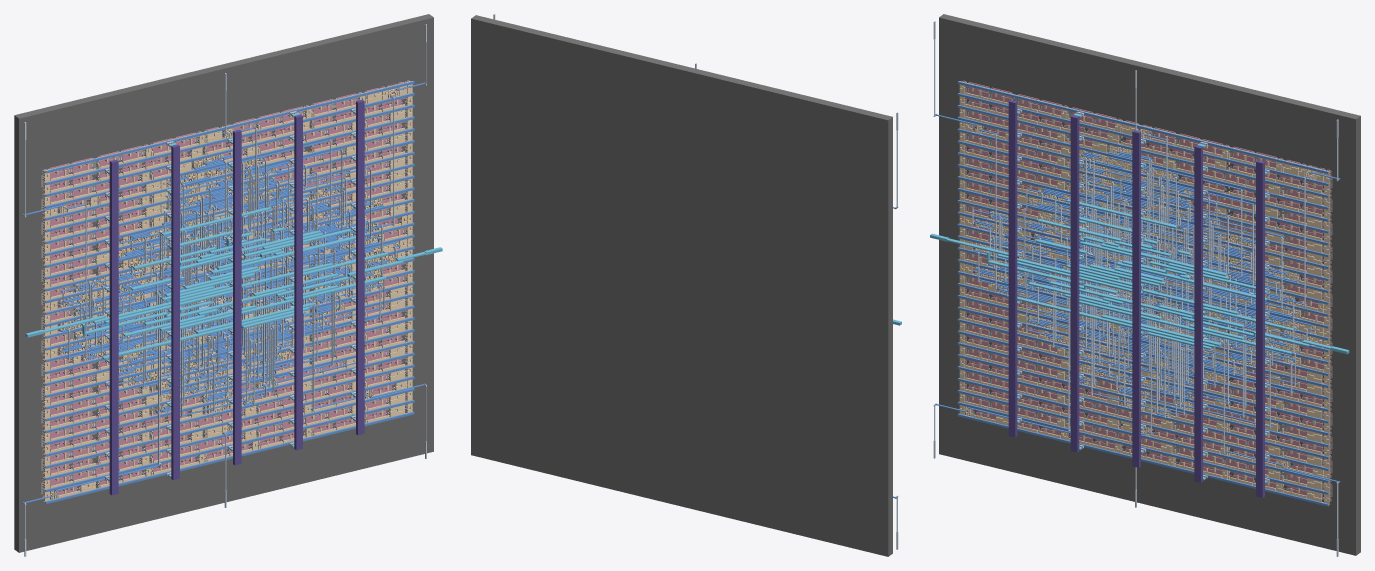
File: tinytapeout.gds.gltf
3 renders of one model, left to right at view 1: azimuth 30°, elevation 25°; view 2: azimuth 150°, elevation 25°; view 3: azimuth 330°, elevation 25°, orthographic.
Parts seen in each view (by area): view 1: scan_wrapper_341188777753969234_substrate, scan_wrapper_341188777753969234_met1, scan_wrapper_341188777753969234_met2, scan_wrapper_341188777753969234_met4, scan_wrapper_341188777753969234_met3; view 2: scan_wrapper_341188777753969234_substrate; view 3: scan_wrapper_341188777753969234_substrate, scan_wrapper_341188777753969234_met1, scan_wrapper_341188777753969234_met2, scan_wrapper_341188777753969234_met4, scan_wrapper_341188777753969234_met3.
Part boxes in pixels (x1,y1,x2,y2): scan_wrapper_341188777753969234_substrate: (14,14,433,552); scan_wrapper_341188777753969234_met1: (22,81,425,503); scan_wrapper_341188777753969234_met2: (24,24,426,556); scan_wrapper_341188777753969234_met4: (109,99,364,495); scan_wrapper_341188777753969234_met3: (25,110,442,480); scan_wrapper_341188777753969234_substrate: (471,15,892,556); scan_wrapper_341188777753969234_substrate: (939,14,1360,555); scan_wrapper_341188777753969234_met1: (935,81,1340,504); scan_wrapper_341188777753969234_met2: (933,21,1338,556); scan_wrapper_341188777753969234_met4: (1008,100,1264,497); scan_wrapper_341188777753969234_met3: (930,111,1349,483).
Size of the model in its own units: 100 by 100 by 6.87.
